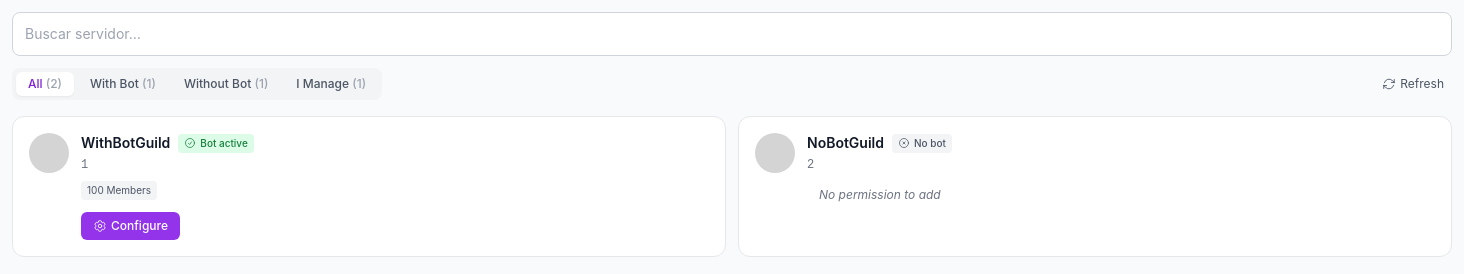
Test: MutualGuildsList › botões de filtro funcionam
Expected: the heading "WithBotGuild" is shown, [81,133,170,153]
Note: Clica no filtro "Without Bot" (en-US)
Click the button "Without Bot (1)": [226, 84] box [172,72,280,96]
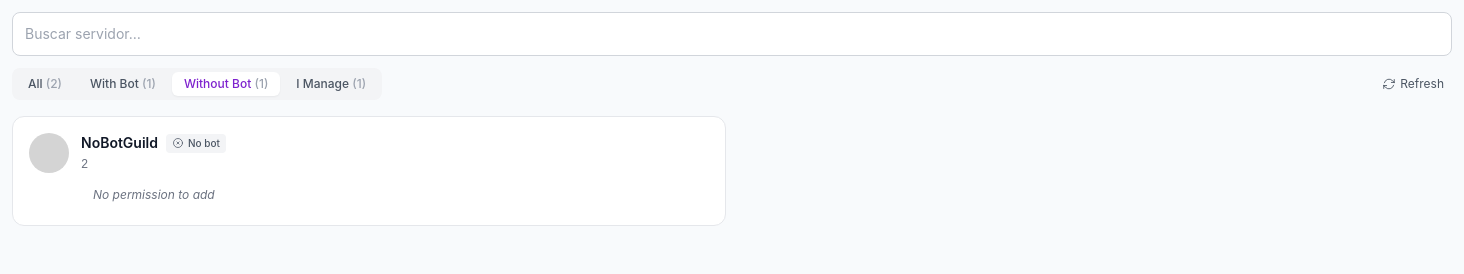
Expected: the heading "NoBotGuild" is shown, [81,133,158,153]
Expected: the heading "WithBotGuild" is gone
